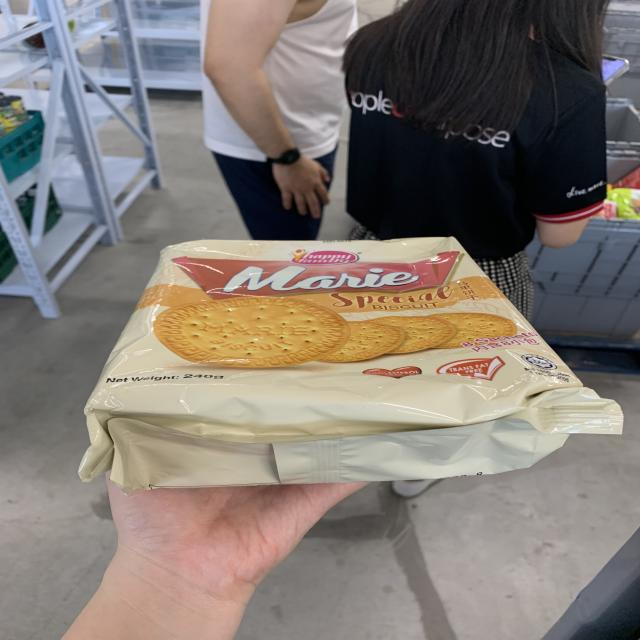object_name: (102, 245, 586, 471)
